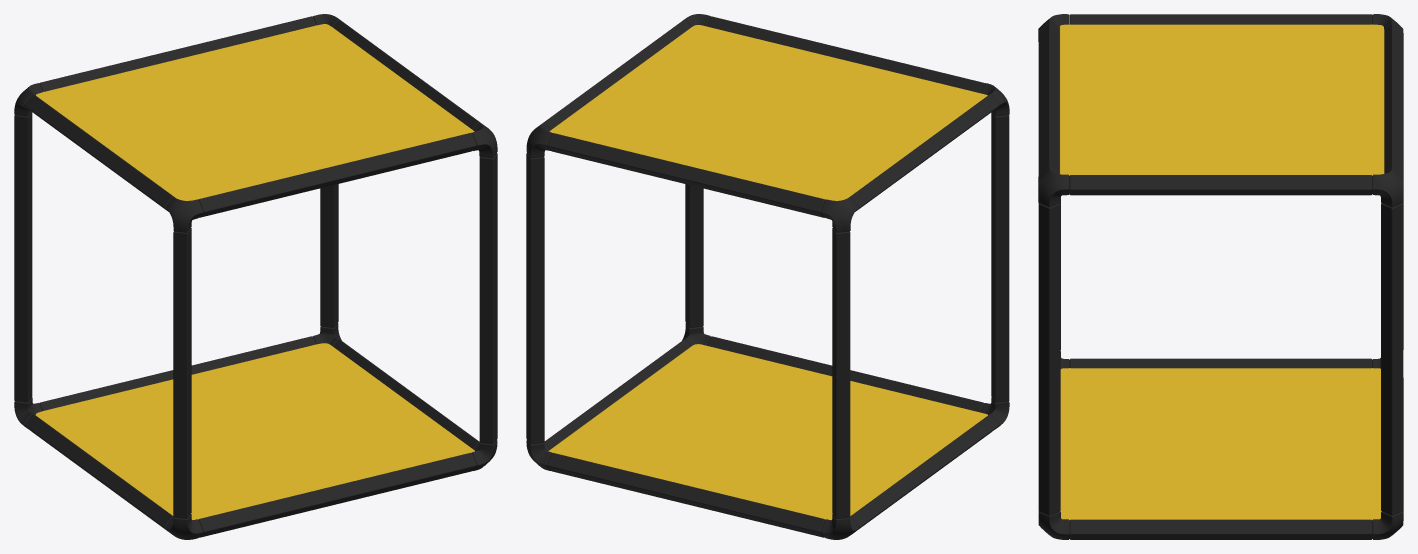
The picture shows the model from 3 angles, left to right: view 1: azimuth 30°, elevation 25°; view 2: azimuth 150°, elevation 25°; view 3: azimuth 270°, elevation 25°; orthographic projection. The views are drawn at different scales.
Parts seen in each view (by area): view 1: 420x374x420; view 2: 420x374x420; view 3: 420x374x420.
Boxes of the visible parts, box(x1,y1,x2,y2) form: 420x374x420: box(14, 14, 497, 539); 420x374x420: box(526, 14, 1009, 539); 420x374x420: box(1038, 14, 1403, 539).
Size of the model in its own units: 0.4977 by 0.4977 by 0.4513.
